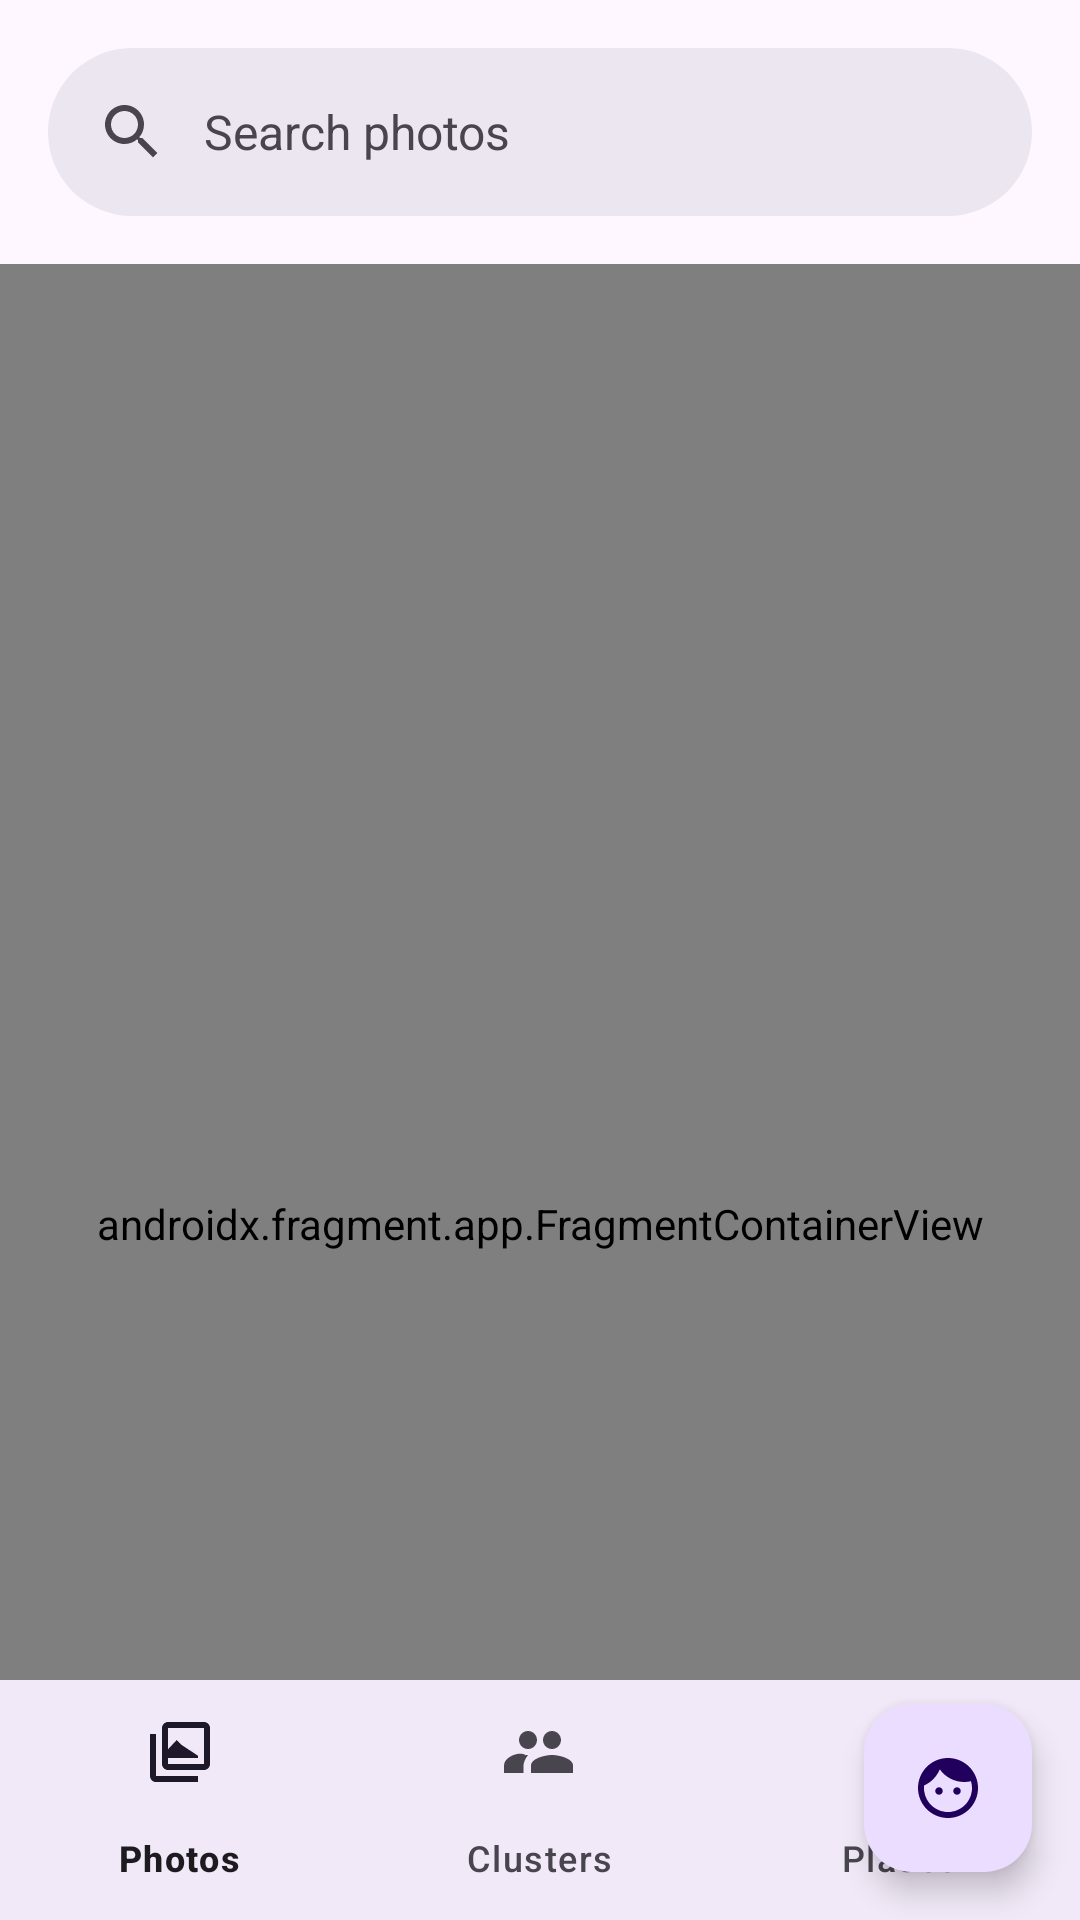

Screen size 1080×1920. Icon name, then its center in pixels as (x,y):
Scan for faces: (948,1788)
